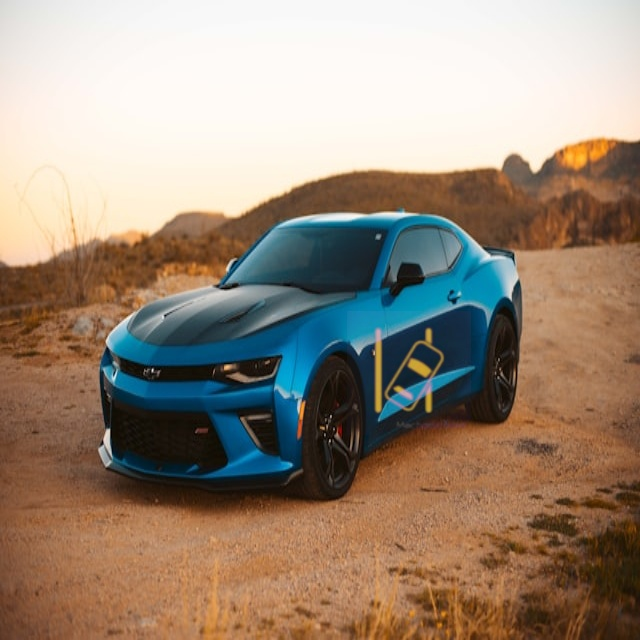symbol: (347, 311, 471, 435)
